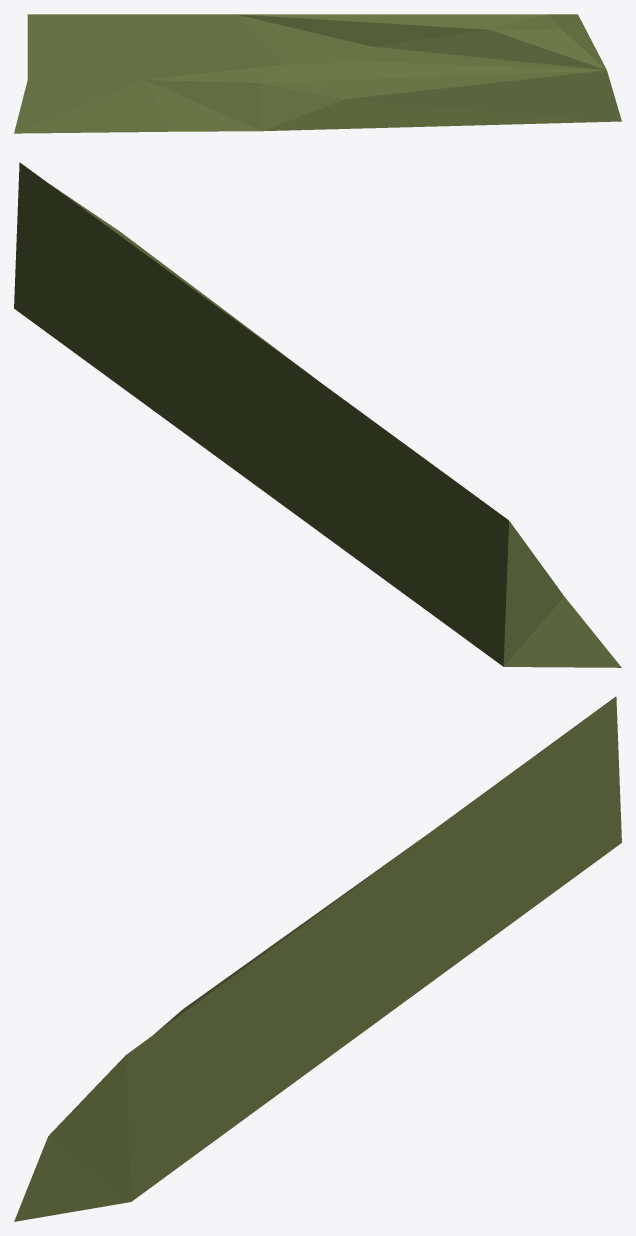
File: ground_48.fbx
The picture shows the model from 3 angles, top to bottom: view 1: azimuth 30°, elevation 25°; view 2: azimuth 150°, elevation 25°; view 3: azimuth 270°, elevation 25°; orthographic projection. The views are drawn at different scales.
Visible parts, largest first — view 1: ground_48; view 2: ground_48; view 3: ground_48.
Part boxes in pixels (<box>): ground_48: <box>14,14,621,133</box>; ground_48: <box>14,162,621,667</box>; ground_48: <box>14,696,621,1221</box>.
Bounding box in the file's own units: 5.14 × 0.9698 × 3.27.
